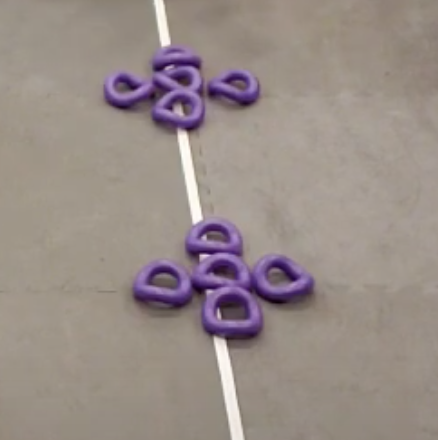ring: (252, 253, 316, 304), (201, 286, 264, 335), (190, 251, 252, 294), (134, 260, 191, 305), (185, 217, 242, 257), (152, 89, 206, 127), (207, 69, 261, 105), (103, 70, 156, 106), (152, 65, 204, 96), (151, 45, 202, 68)
